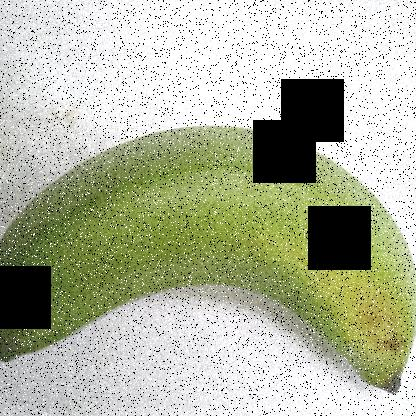freshunripe: (1, 110, 416, 415)
